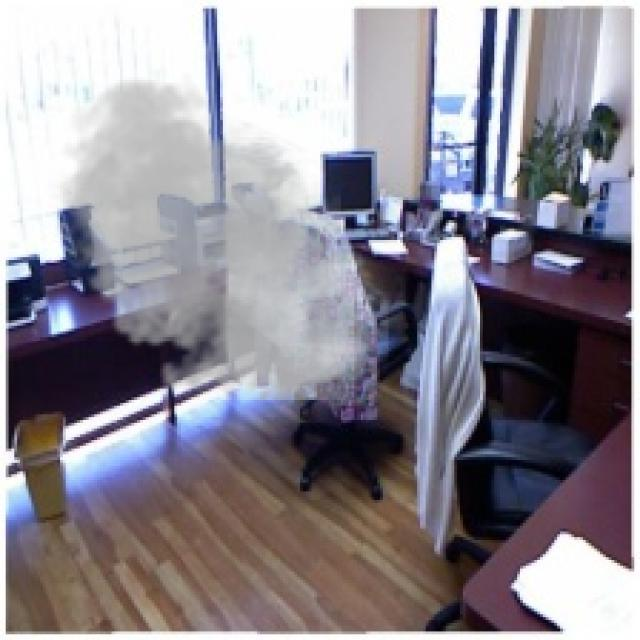smoke: (46, 72, 388, 414)
